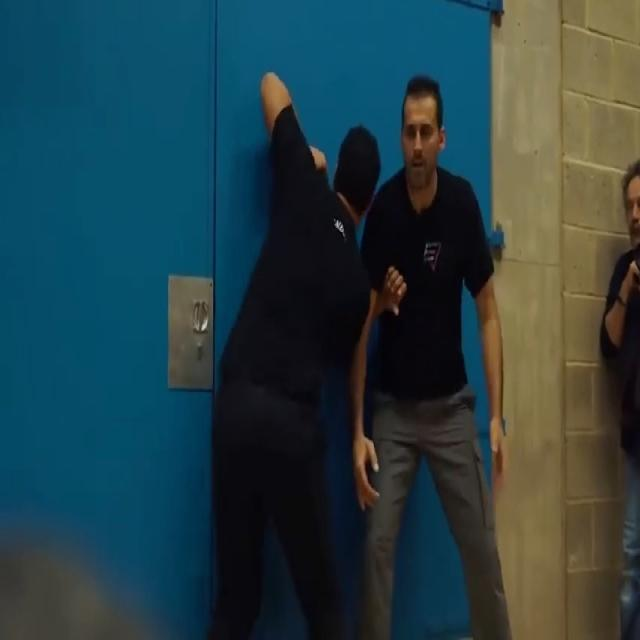fight: (213, 67, 514, 640)
